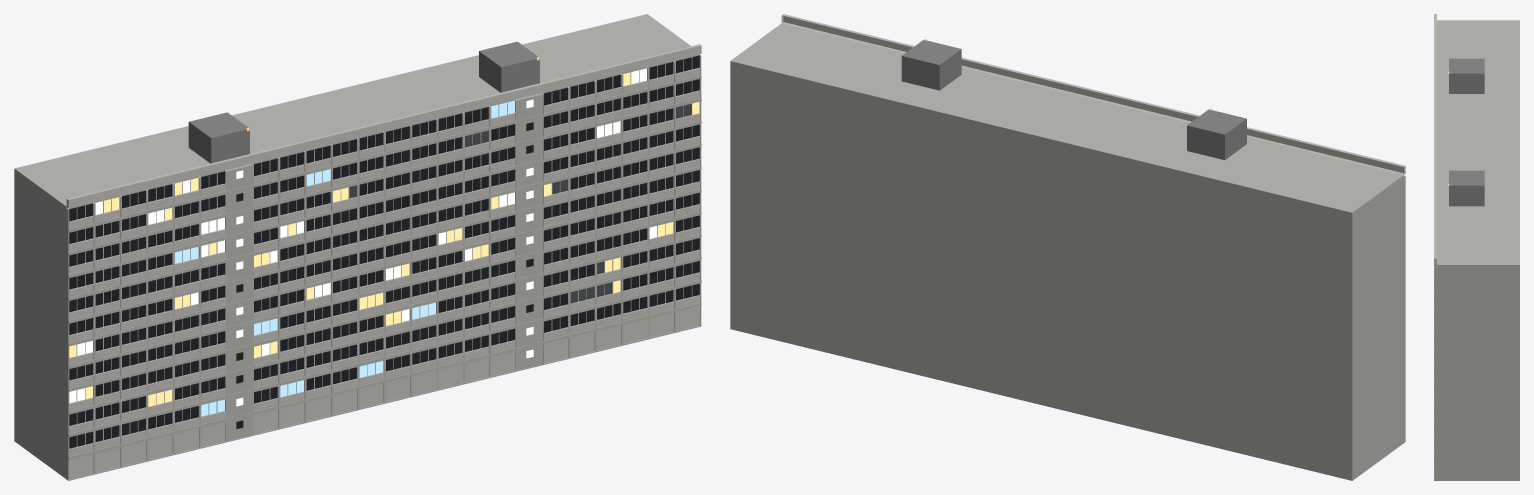
The model's file is ApartmentBlock.fbx.
3 views of the same model, side by side, from view 1: azimuth 30°, elevation 25°; view 2: azimuth 150°, elevation 25°; view 3: azimuth 270°, elevation 25° (orthographic). The views are drawn at different scales.
Visible parts, largest first — view 1: ApartmentBlock; view 2: ApartmentBlock; view 3: ApartmentBlock.
Boxes of the visible parts, x1,y1,x2,y2 form: ApartmentBlock: (14, 14, 701, 480); ApartmentBlock: (730, 14, 1405, 480); ApartmentBlock: (1434, 14, 1519, 480).
Bounding box in the file's own units: 81.6 × 36.9 × 12.12.
